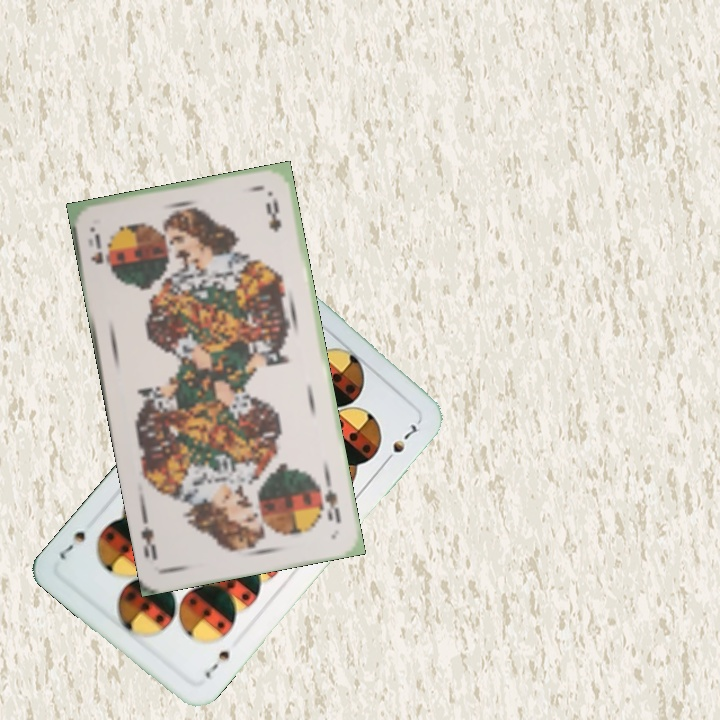S7: (200, 646, 233, 682)
SO: (87, 229, 114, 279), (320, 474, 343, 526)
